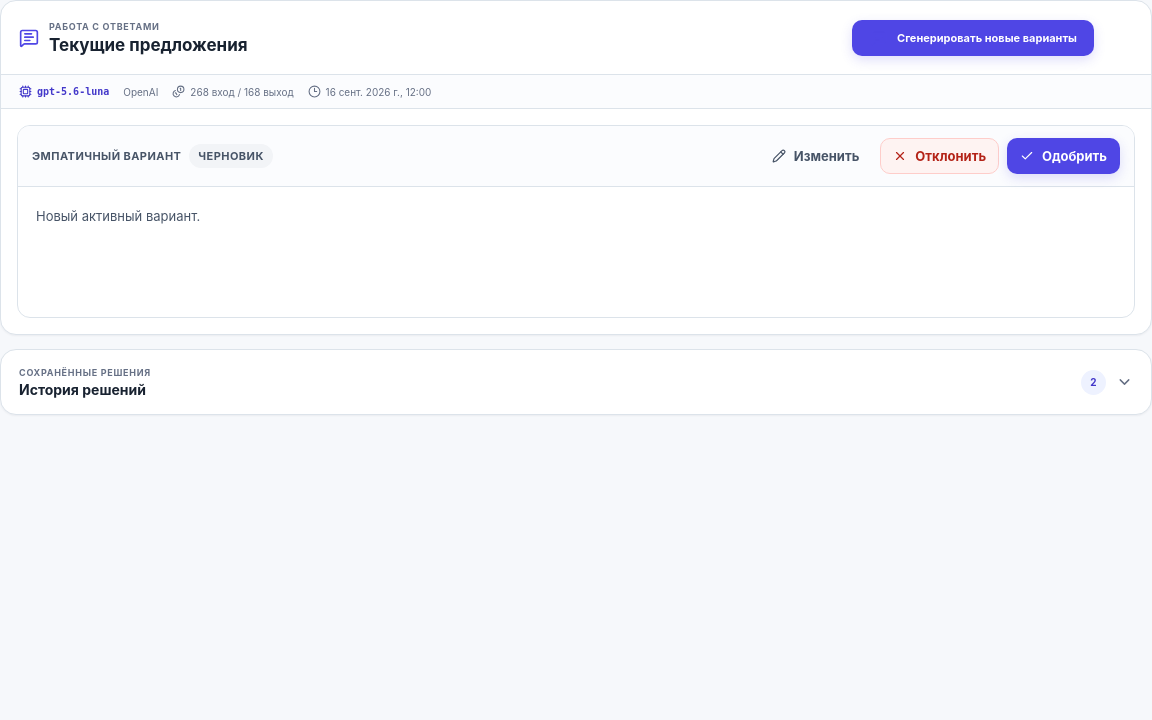
Test: SuggestedReplies › separates current replies from collapsible historical decisions
The width and height of the screenshot is (1152, 720).
Expected: the text "Новый активный вариант." is shown, x1=36 y1=208 x2=200 y2=224
Expected: the button "Сгенерировать новые варианты" is shown, x1=852 y1=20 x2=1094 y2=56
Click the text "История решений".
click(82, 389)  # box x1=19 y1=380 x2=146 y2=398
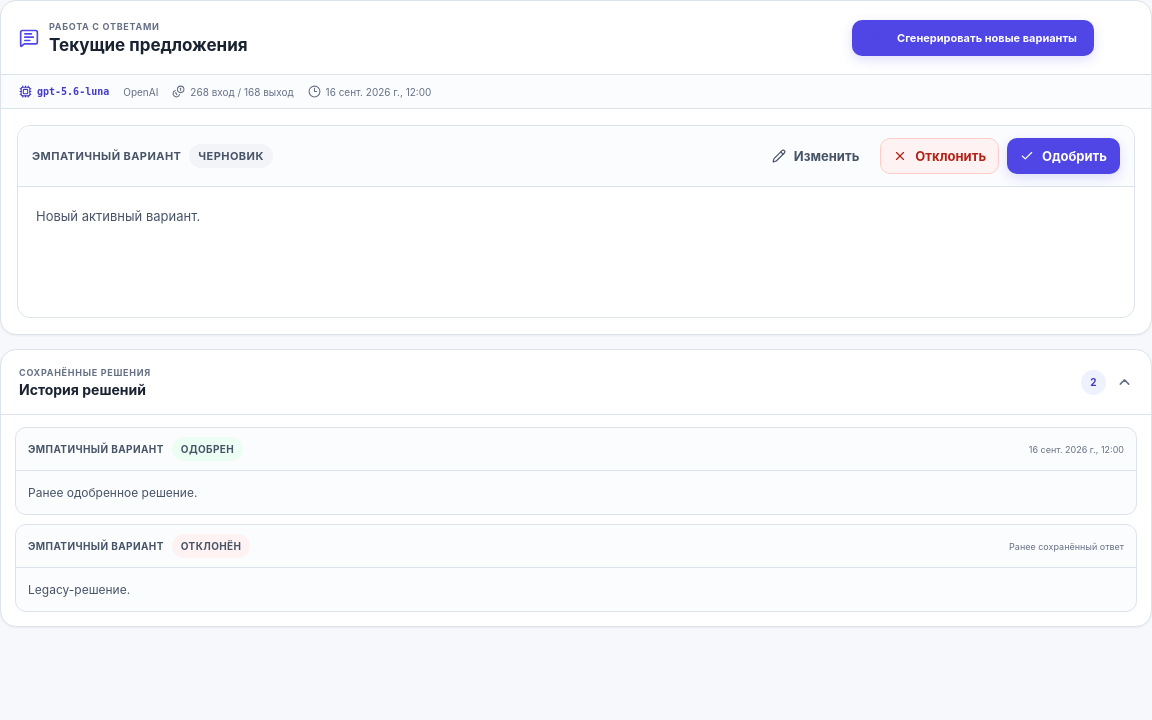
Result: the text "Ранее одобренное решение." is shown at x1=28 y1=485 x2=197 y2=500
Result: the text "Legacy-решение." is shown at x1=28 y1=582 x2=130 y2=597
Result: the text "Ранее сохранённый ответ" is shown at x1=1009 y1=541 x2=1124 y2=552
